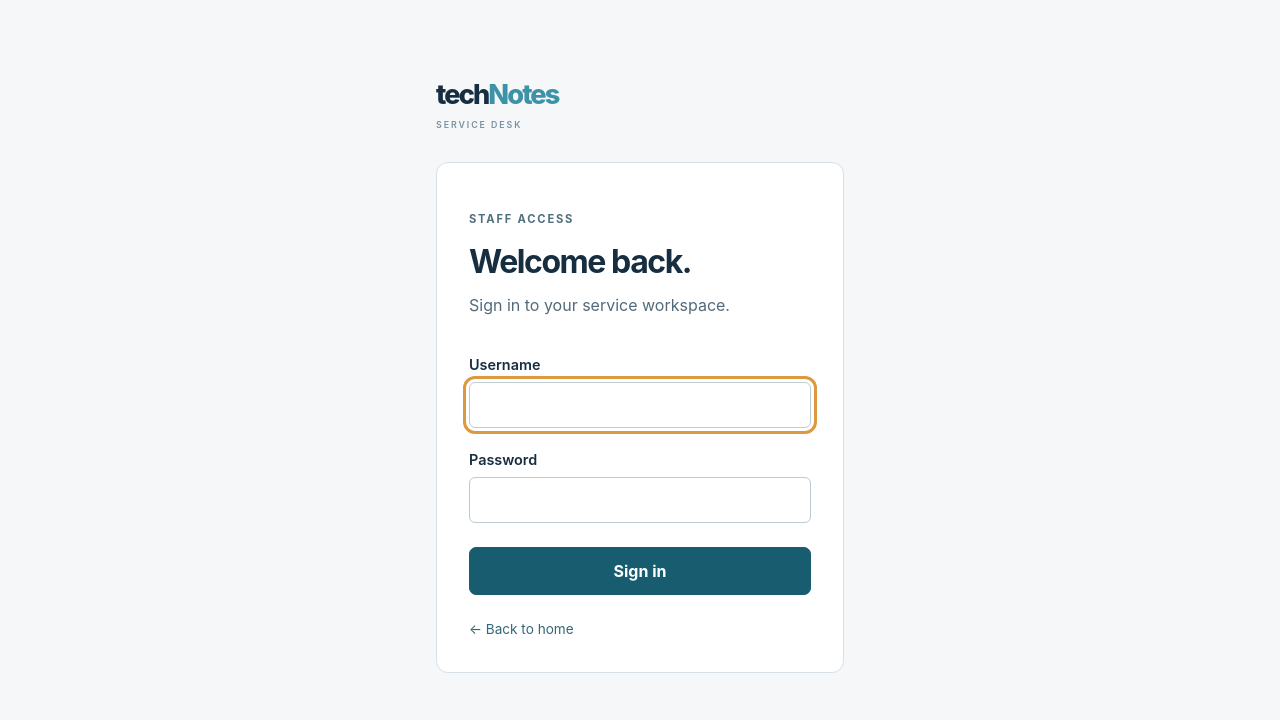
Test: login submits credentials and restores the requested page
The image size is (1280, 720).
Step 1. Type "admin" into the field labelled "Username" → x=640, y=405, box [469,382,811,428]
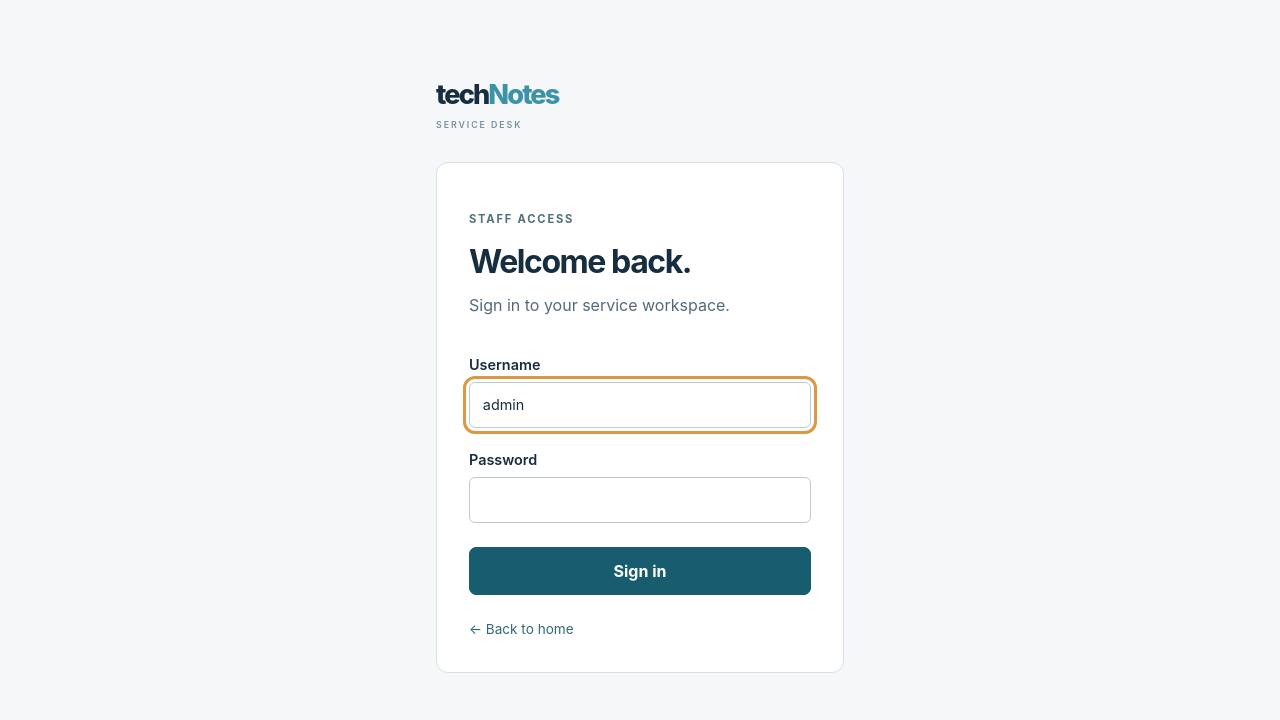
Step 2. Type "TechNotes123!" into the password field labelled "Password" → x=640, y=500, box [469,477,811,523]
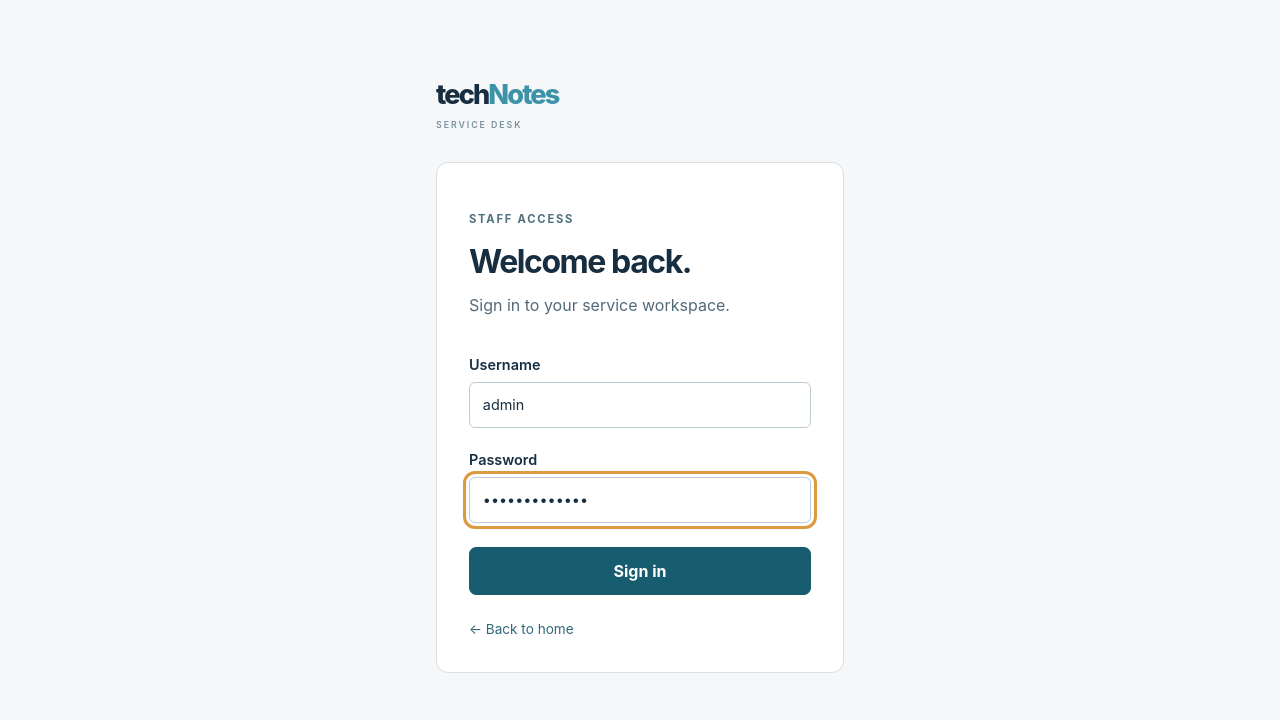
Step 3. Click the button "Sign in" → x=640, y=571, box [469,547,811,595]
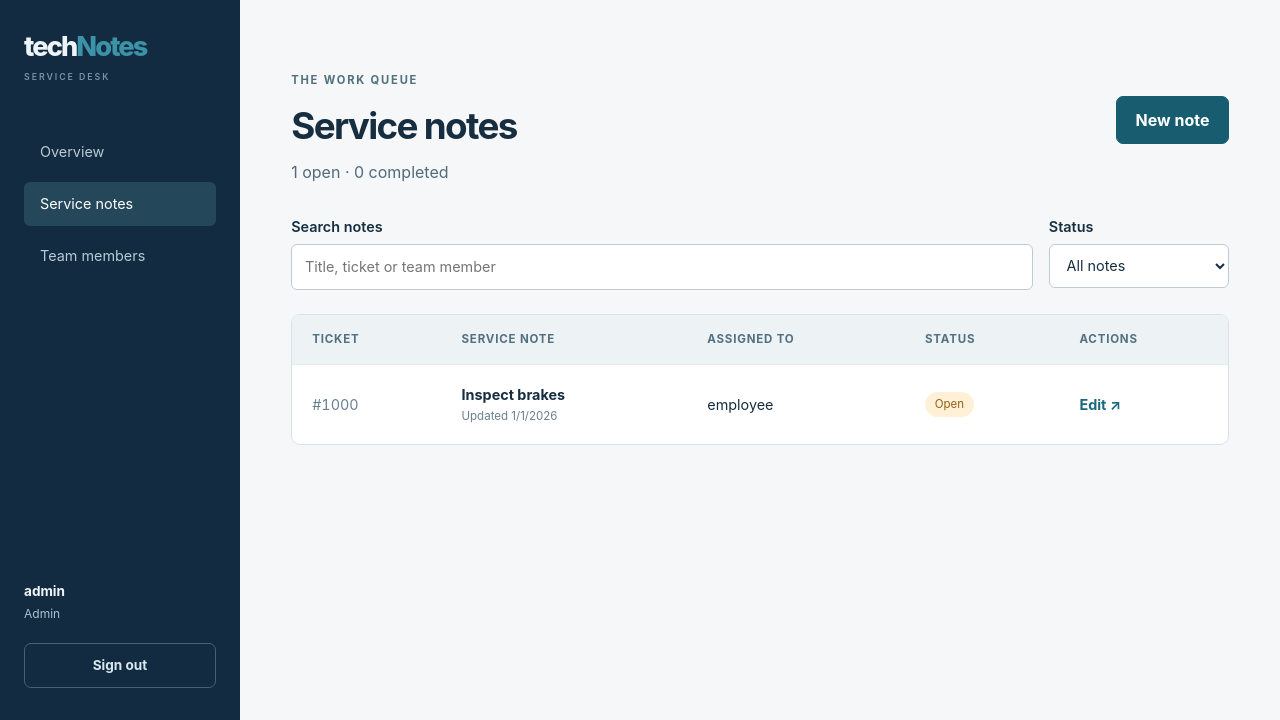
Now the heading "Service notes" is shown, box [291,105,517,147]
